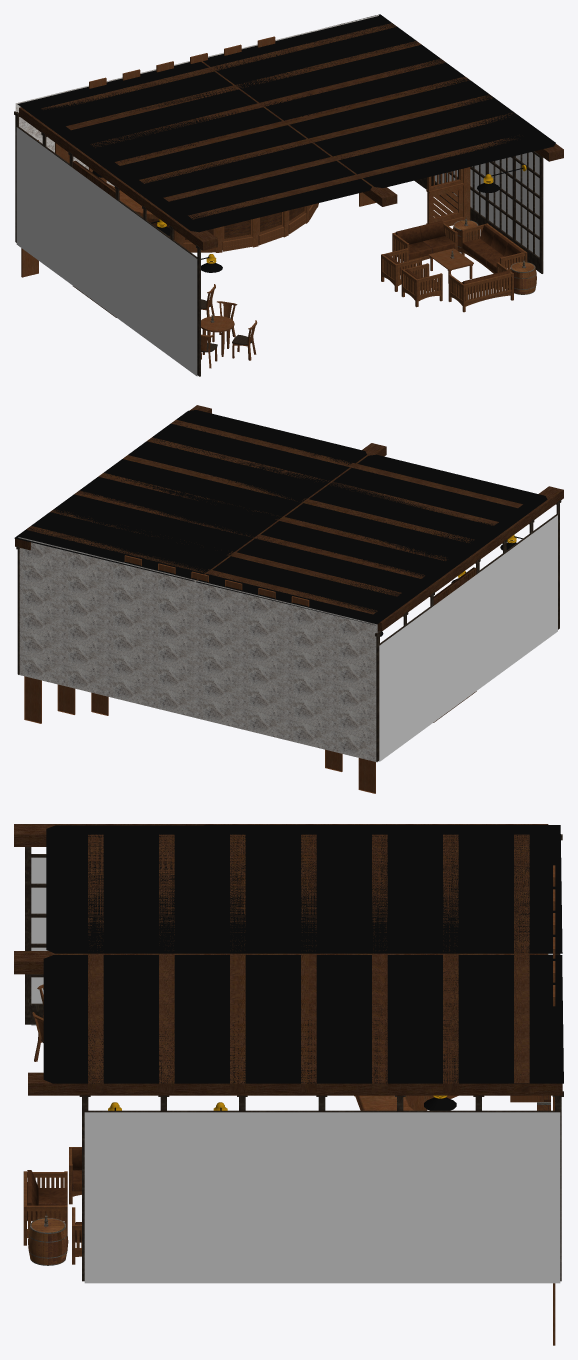
Rendered from bar_final_03.fbx.
3 renders of one model, top to bottom at view 1: azimuth 30°, elevation 25°; view 2: azimuth 150°, elevation 25°; view 3: azimuth 270°, elevation 25°, orthographic. The views are drawn at different scales.
Parts seen in each view (by area): view 1: polySurface20, polySurface27, wall_l, ceiling_grp_01 (×2), ceiling_grp_02, wall_r, sofa_grp_05, sofa_grp_02, sofa_grp_01, woodWall_grp, wall_grp_04 (×2), sofa_grp_03 (+8 smaller); view 2: backWall, polySurface20, polySurface27, wall_l, ceiling_grp_01 (×2), ceiling_grp_02, woodWall_grp, wall_grp_02; view 3: wall_r, polySurface27, polySurface20, ceiling_grp_01 (×2), ceiling_grp_02, sofa_grp_01, wall_grp_04 (×2), barrel_02, wall_l, polySurface55, sofa_grp_03.
Part boxes in pixels (<box>): polySurface20: <box>203,14,555,187</box>; polySurface27: <box>17,62,371,232</box>; wall_l: <box>16,127,197,376</box>; ceiling_grp_01 (×2): <box>19,62,563,250</box>; ceiling_grp_02: <box>211,23,515,177</box>; wall_r: <box>435,152,539,256</box>; sofa_grp_05: <box>461,223,527,273</box>; sofa_grp_02: <box>392,220,457,260</box>; sofa_grp_01: <box>448,262,513,312</box>; woodWall_grp: <box>21,36,375,277</box>; wall_grp_04 (×2): <box>196,155,543,376</box>; sofa_grp_03: <box>401,263,442,307</box>; backWall: <box>18,537,377,762</box>; polySurface20: <box>14,410,366,581</box>; polySurface27: <box>196,454,547,625</box>; wall_l: <box>379,515,557,761</box>; ceiling_grp_01 (×2): <box>15,405,563,631</box>; ceiling_grp_02: <box>27,419,350,573</box>; woodWall_grp: <box>24,555,375,793</box>; wall_grp_02: <box>375,611,408,761</box>; wall_r: <box>84,1112,560,1283</box>; polySurface27: <box>46,825,562,953</box>; polySurface20: <box>43,955,563,1083</box>; ceiling_grp_01 (×2): <box>14,824,562,1095</box>; ceiling_grp_02: <box>88,955,529,1092</box>; sofa_grp_01: <box>23,1170,67,1245</box>; wall_grp_04 (×2): <box>25,847,90,1281</box>; barrel_02: <box>28,1218,68,1265</box>; wall_l: <box>31,857,552,1025</box>; polySurface55: <box>355,1095,458,1110</box>; sofa_grp_03: <box>69,1147,81,1204</box>.
Bounding box in the file's own units: 104 × 51.75 × 93.19.
